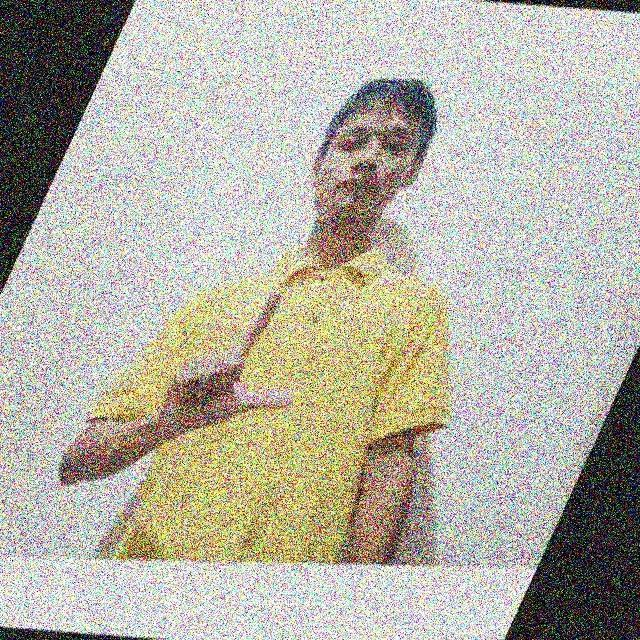L: (164, 284, 298, 442)
